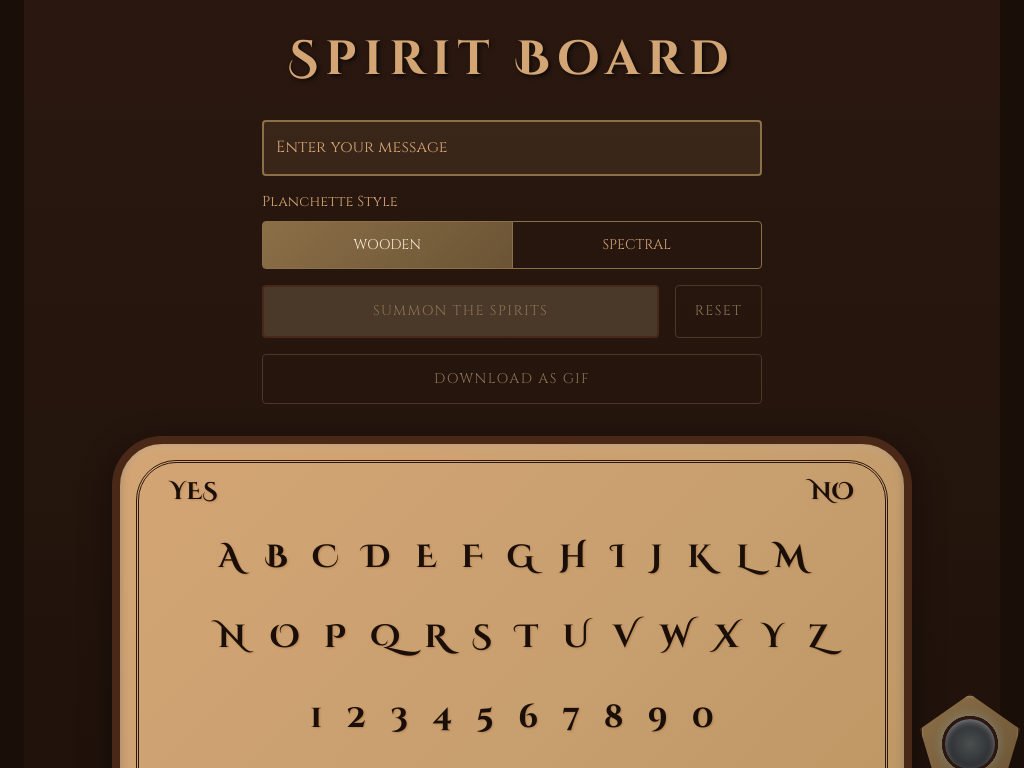
Test case: Ouija Page › download GIF button is disabled during animation
Type "A" into the field labelled "Enter your message" at (512, 148), box [262,120,762,176]
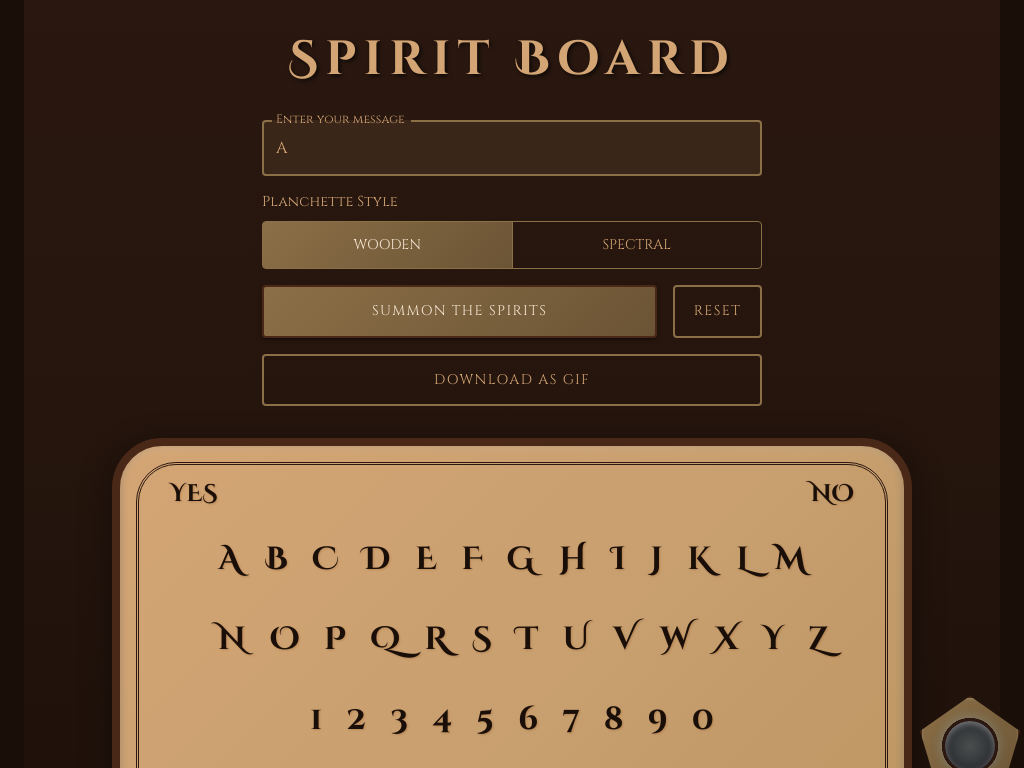
Click the button "Summon the Spirits" at (460, 311), box [262,285,657,338]
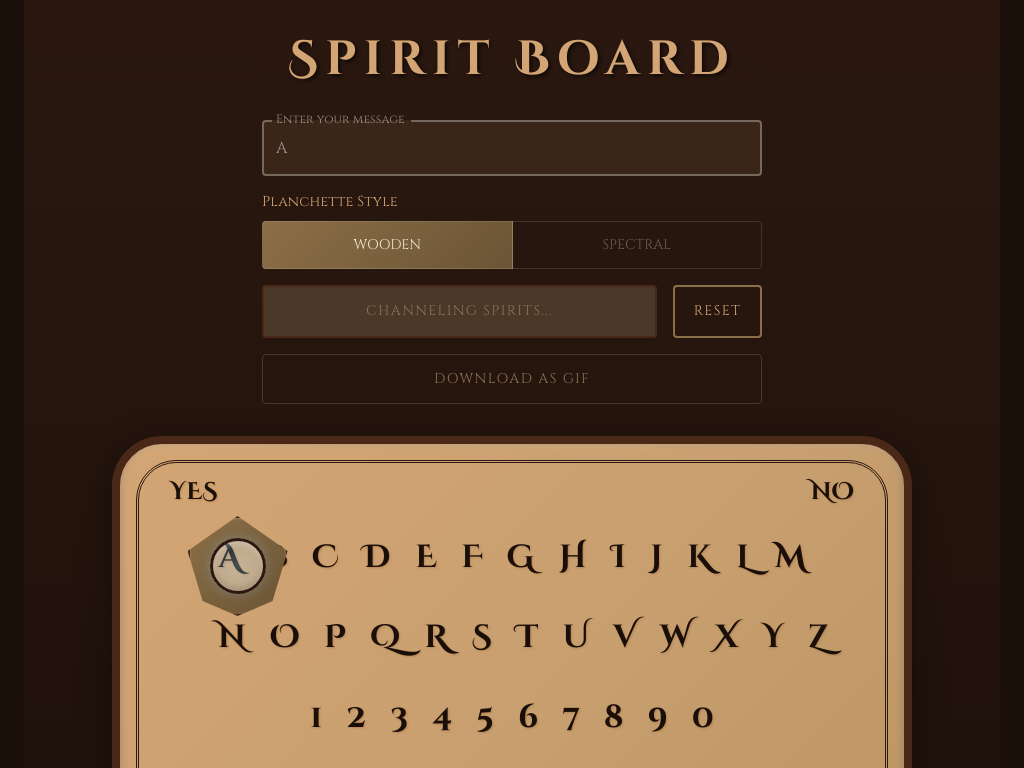
Expected: the button "Download as GIF" is disabled, [262,354,762,404]
